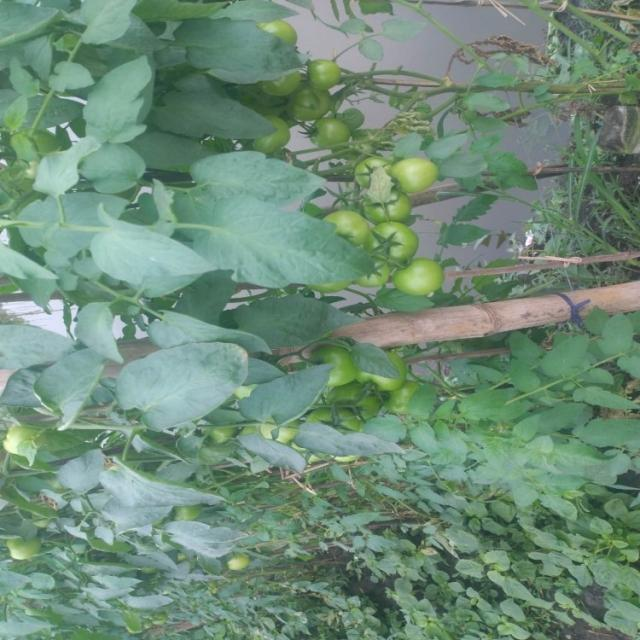tomato: (380, 247, 450, 302), (325, 380, 384, 422), (307, 58, 367, 99), (358, 184, 421, 222), (390, 147, 439, 194), (375, 220, 420, 271), (317, 115, 363, 156), (317, 338, 363, 378), (331, 203, 370, 248), (293, 92, 332, 127), (349, 155, 389, 187), (6, 526, 40, 560), (264, 74, 309, 97), (271, 21, 310, 47), (226, 543, 254, 578), (1, 420, 30, 450)
